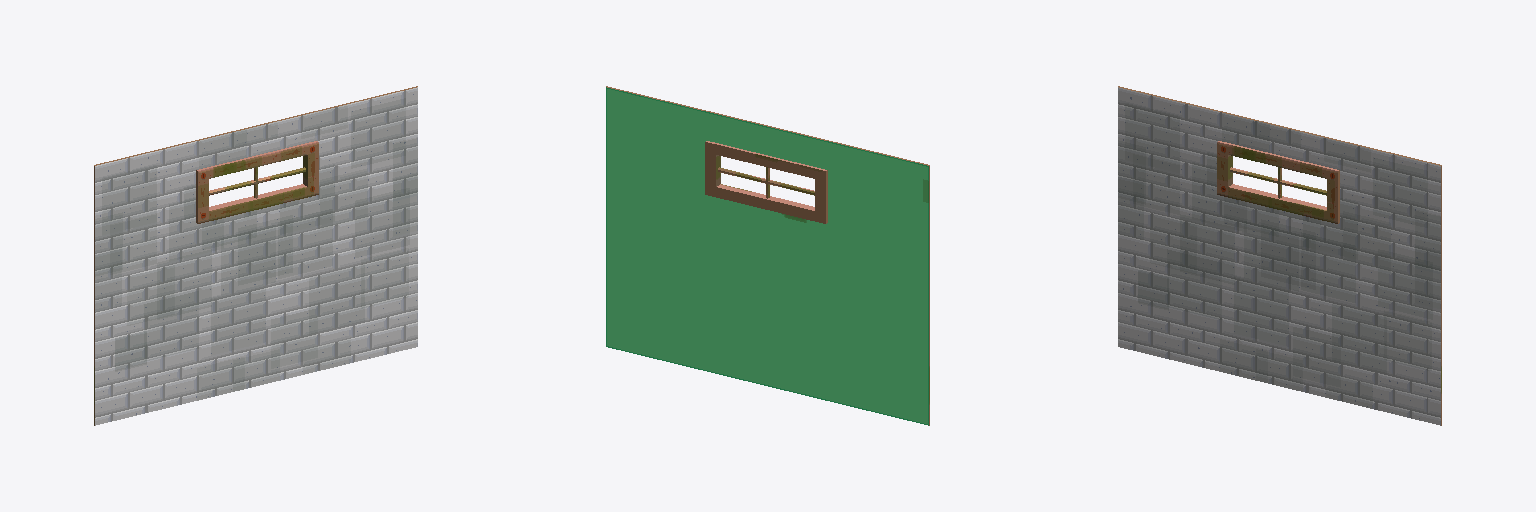
The picture shows the model from 3 angles: view 1: azimuth 30°, elevation 25°; view 2: azimuth 150°, elevation 25°; view 3: azimuth 330°, elevation 25°; orthographic projection.
Visible parts, largest first — view 1: cuboid; view 2: cuboid; view 3: cuboid.
Part boxes in pixels (x1,y1,x2,y2): cuboid: (94,86,417,425); cuboid: (606,86,929,425); cuboid: (1118,86,1441,425).
Bounding box in the file's own units: 18.75 × 14.38 × 0.4375.
Materials: 1 (1 with a texture image).